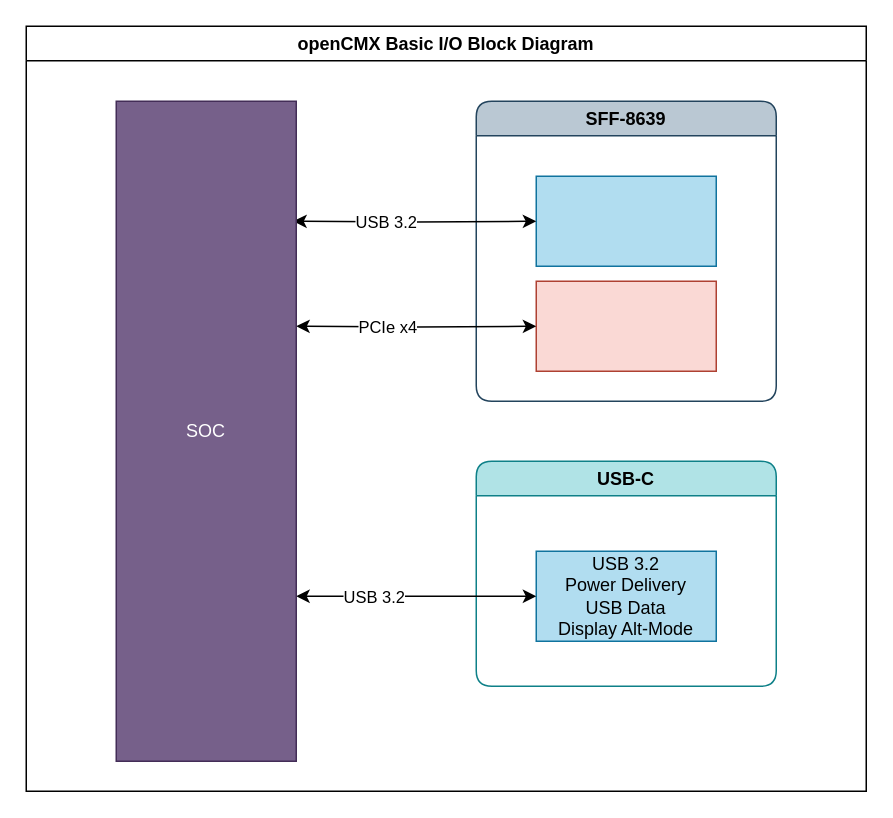
The diagram is 893 pixels wide and 818 high, and some of its shapes have lost their labels. Each missing label, with the centre of its shape:
"SFF-PCIe x4" belongs at (x=625, y=325).
"SFF-USB 3.2 Power Delivery USB Data Display Alt-Mode" belongs at (x=625, y=220).
